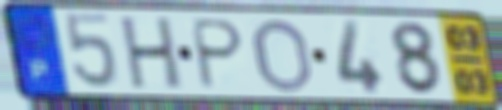4: (335, 18, 387, 97)
5: (61, 10, 121, 94)
8: (388, 20, 445, 97)
H: (119, 15, 185, 93)
O: (251, 16, 316, 96)
P: (190, 16, 248, 92)
